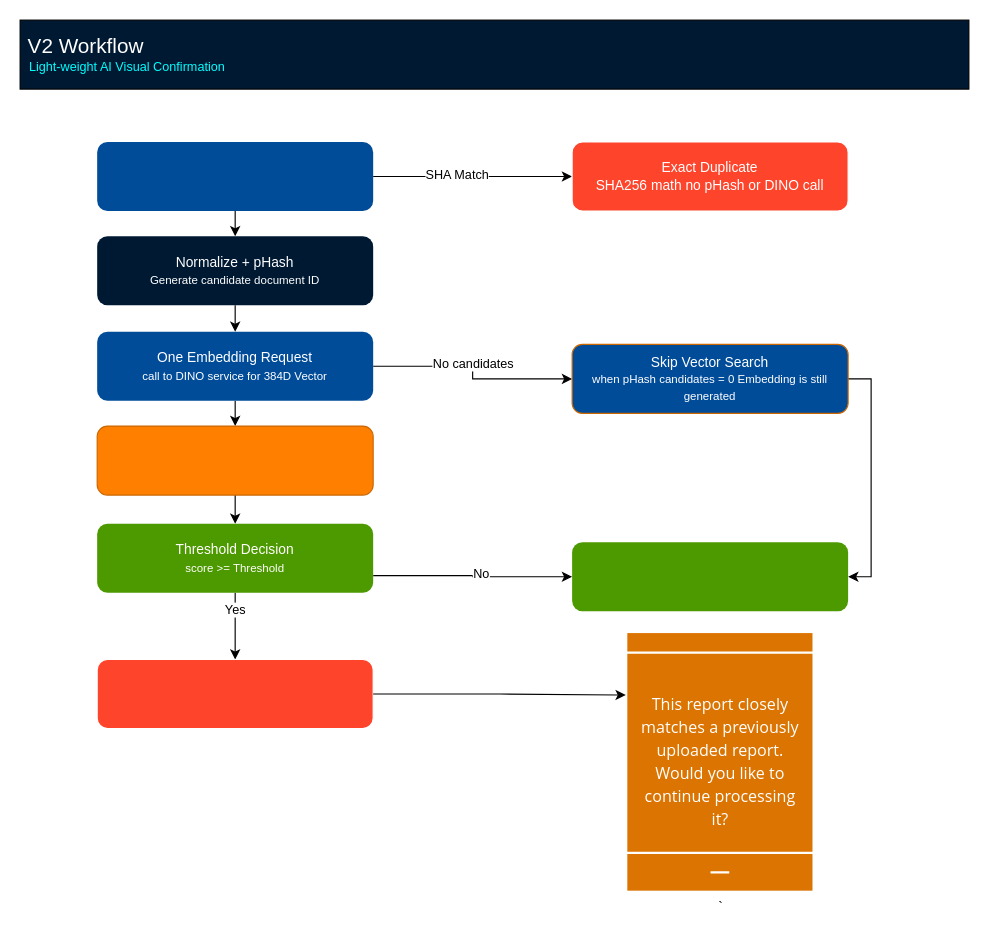
The diagram is 989 pixels wide and 936 high, and some of its shapes have lost their labels. The shapes that lost their labels are listed below. From the top down, each one's centre as x and y in pixels, then its label:
At point 235,175: "Upload + SHA256 Lookup Exact hit exists immediately".
At point 234,460: "Candidate Scoped Vector Search Top 5 cosine similarity".
At point 710,576: "New Document score <= Threshold or no candidates Store SHA + pHash + Vector data".
At point 234,693: "Visual Duplicate score >= Threshold returns best match, no new record insertion".
